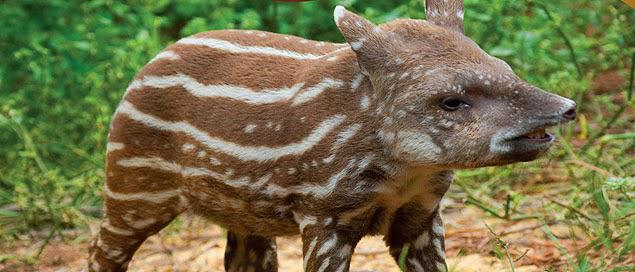Anta: (87, 10, 581, 263)
